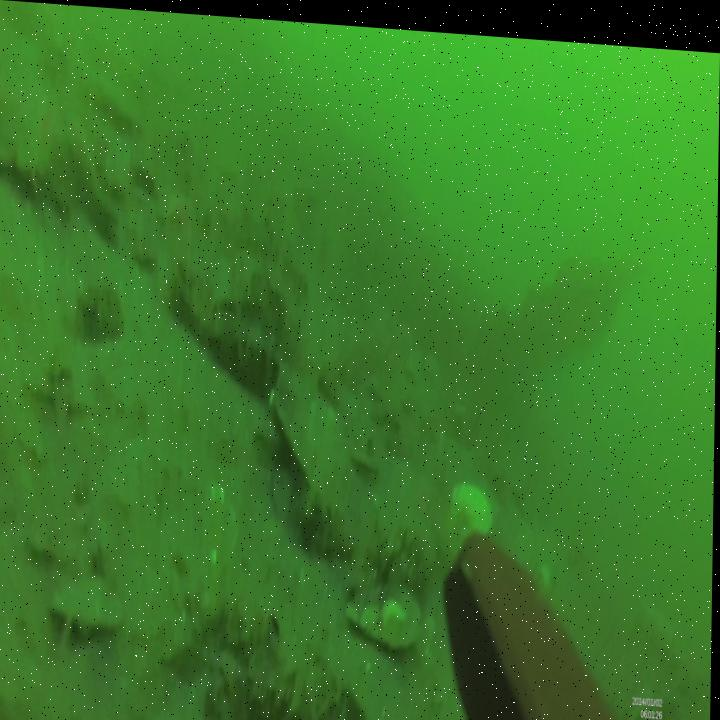scallop: (447, 472, 496, 536)
